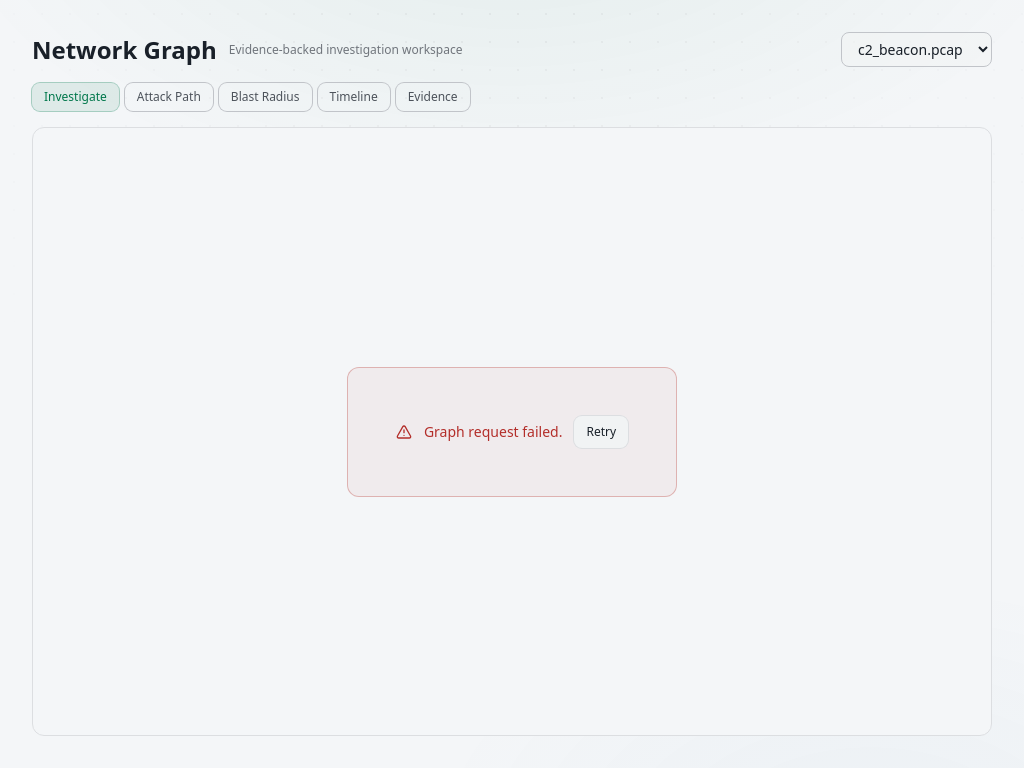
Test case: GraphPage — investigation workspace › switches to Attack Path mode and finds bounded paths
Click the tab "Attack Path": (169, 97) [125,83,213,111]
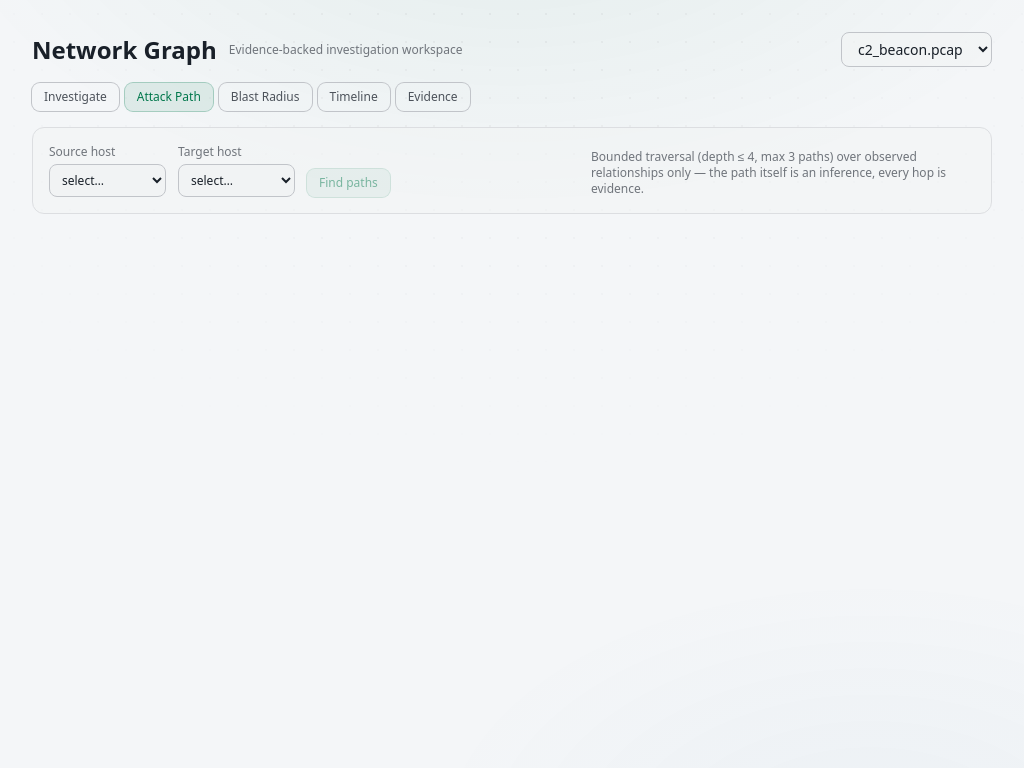
Select "192.168.1.42" in the dropdown labelled "Source host": (108, 180) [49,164,166,197]
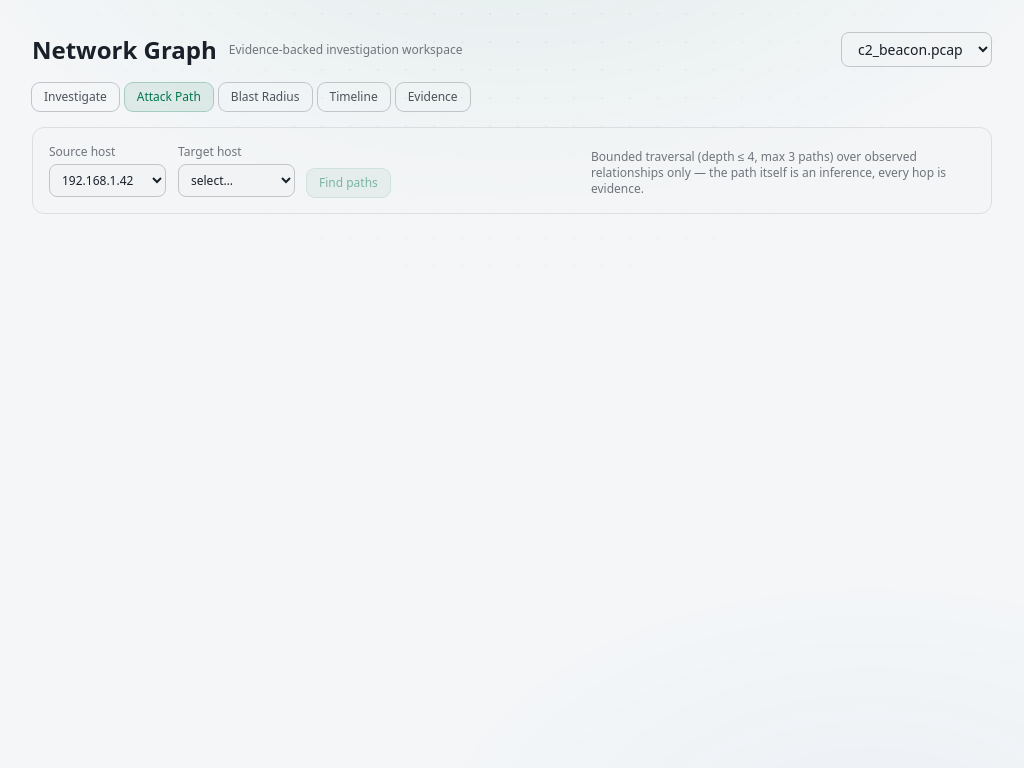
Select "185.234.72.19" in the dropdown labelled "Target host": (236, 180) [178,164,295,197]
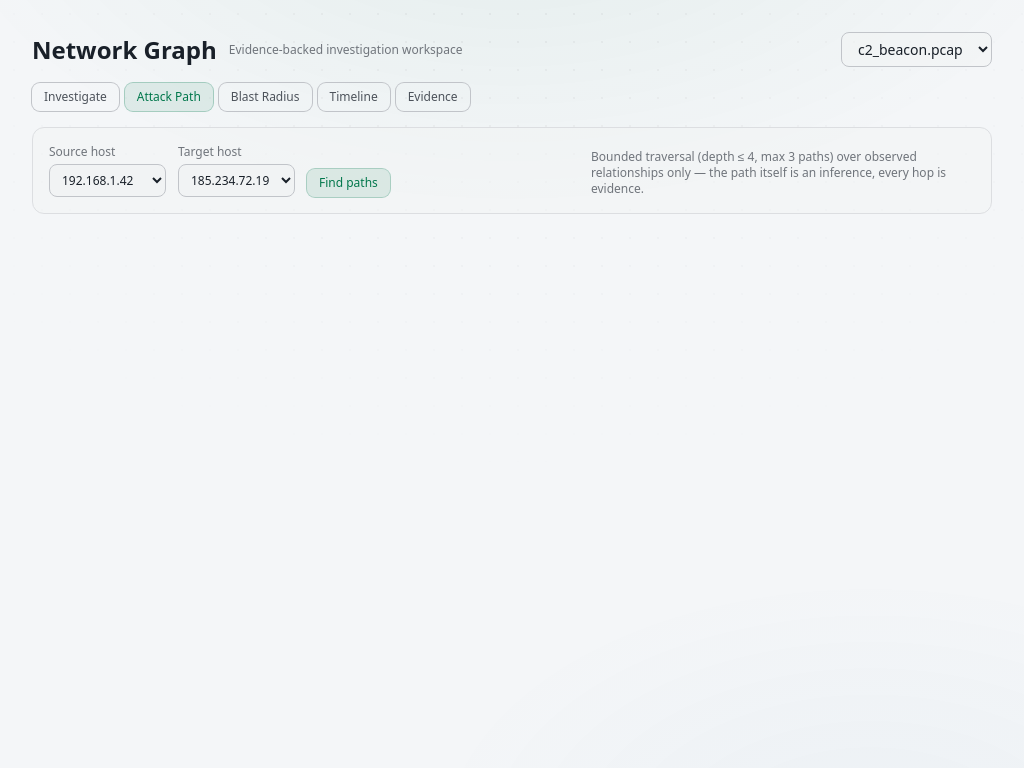
Click the button "Find paths": (348, 183) [307,169,390,197]
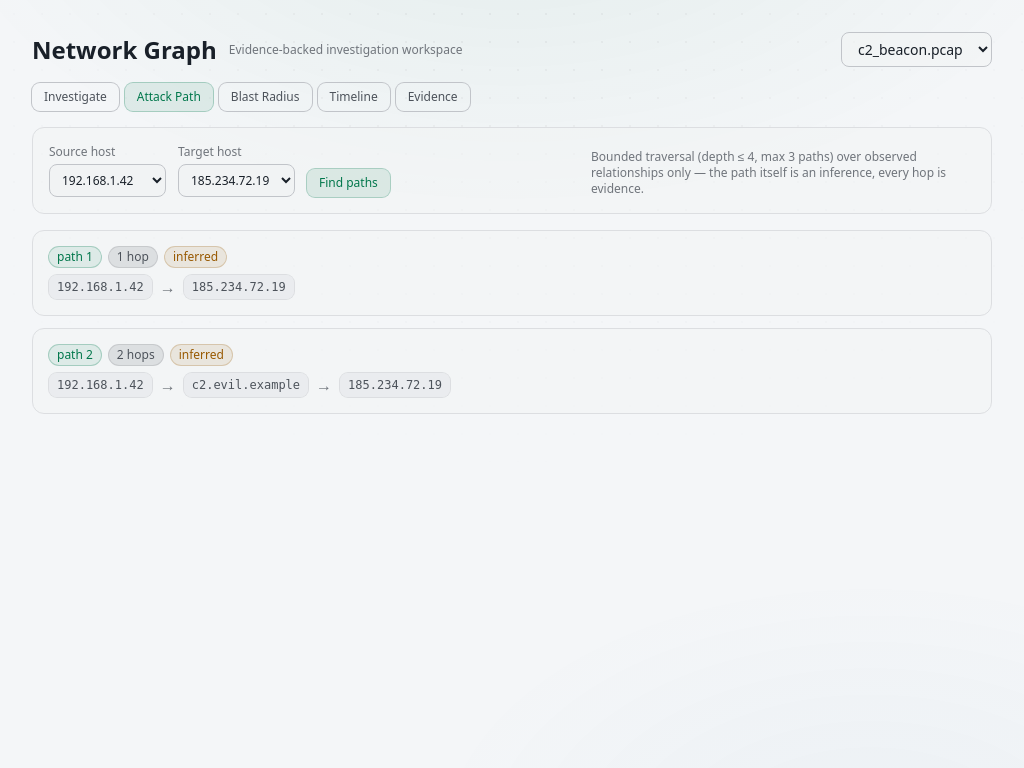
Result: the text "path 1" is shown at [49,247,101,267]
Result: the text "1 hop" is shown at [109,247,157,267]
Result: the text "2 hops" is shown at [109,345,163,365]
